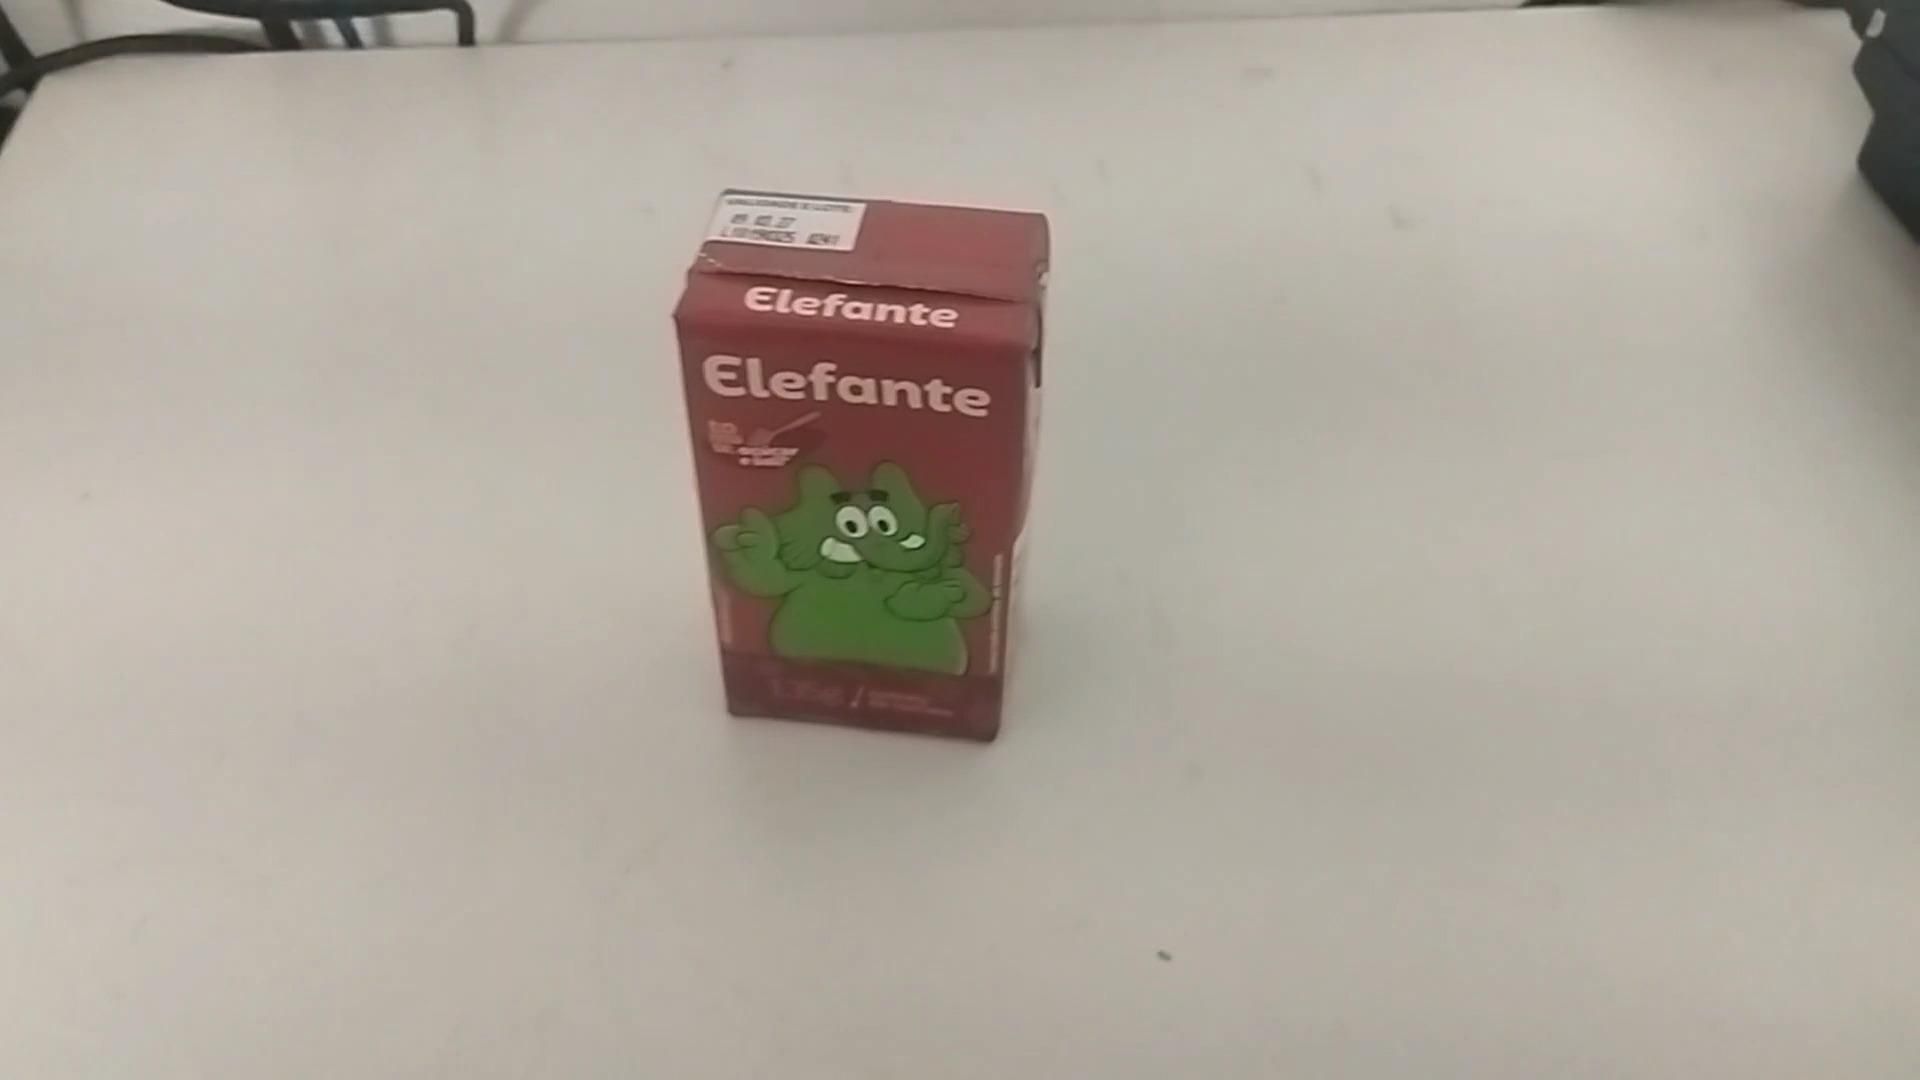tomate: (666, 185, 1062, 748)
